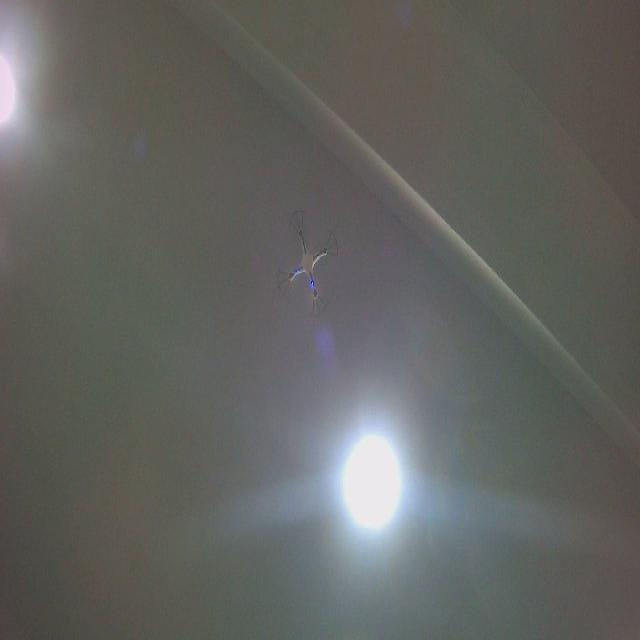drone: (275, 207, 342, 318)
